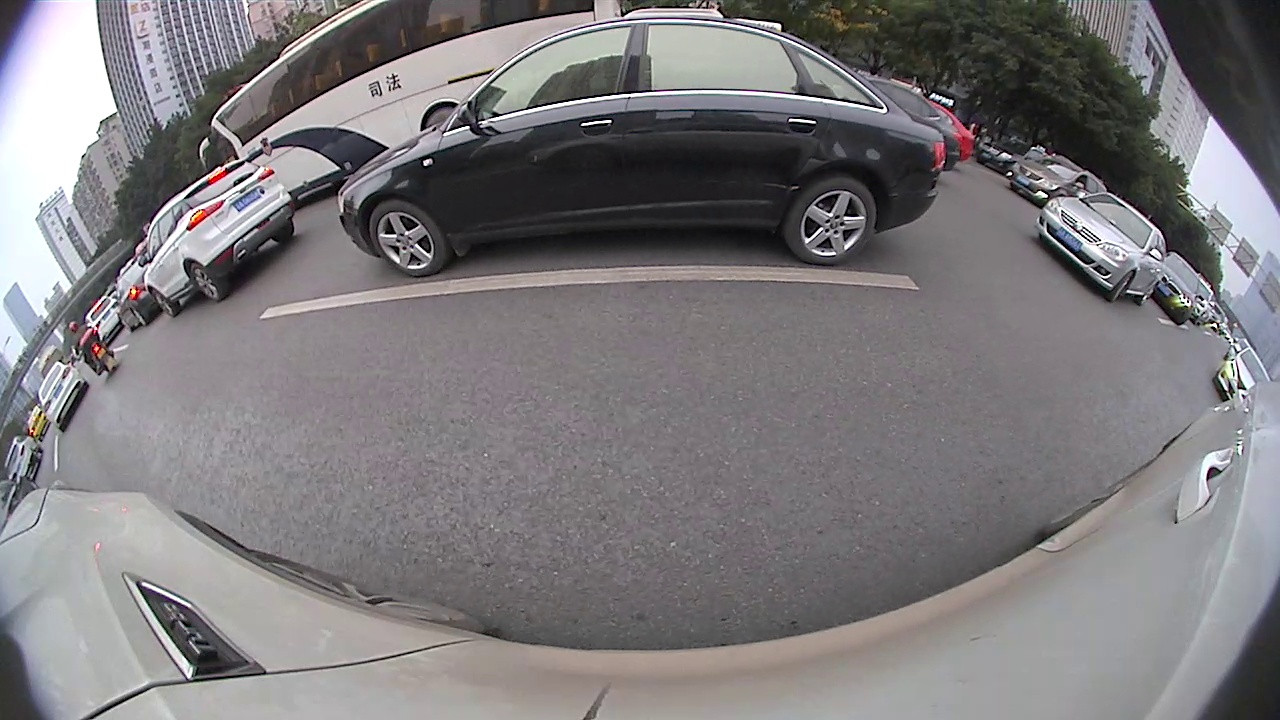bus: (195, 1, 614, 222)
car: (334, 12, 947, 280), (135, 156, 297, 319), (1034, 185, 1169, 308), (863, 74, 964, 172), (1007, 151, 1108, 208), (33, 359, 91, 434), (111, 262, 163, 335), (975, 128, 1050, 178), (1155, 249, 1203, 326), (1212, 345, 1275, 402), (930, 94, 977, 164), (0, 473, 40, 536), (3, 434, 44, 488), (82, 296, 124, 348), (1187, 272, 1214, 327), (22, 405, 50, 441), (1221, 334, 1252, 363)
front: (368, 201, 446, 277), (149, 287, 180, 316), (1109, 272, 1137, 300)
rear: (778, 180, 878, 266), (188, 263, 226, 300), (1135, 282, 1158, 304)
rider: (63, 317, 122, 376)
